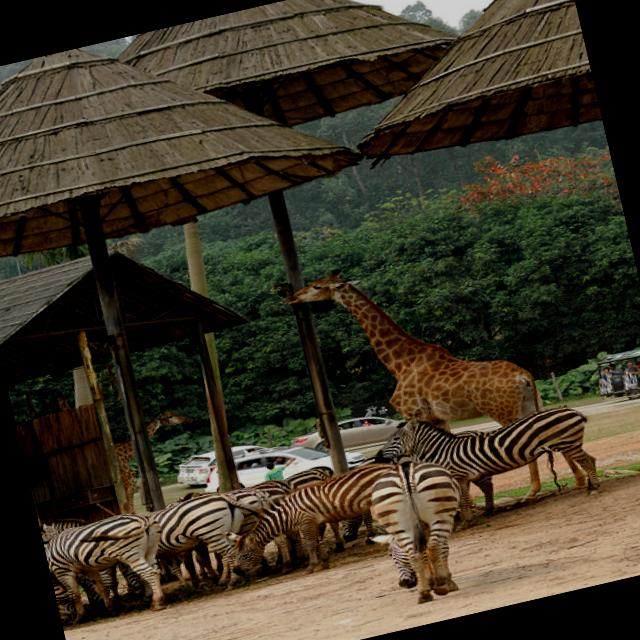Vehicle: (200, 426, 366, 502), (286, 406, 409, 462), (169, 438, 269, 494)
